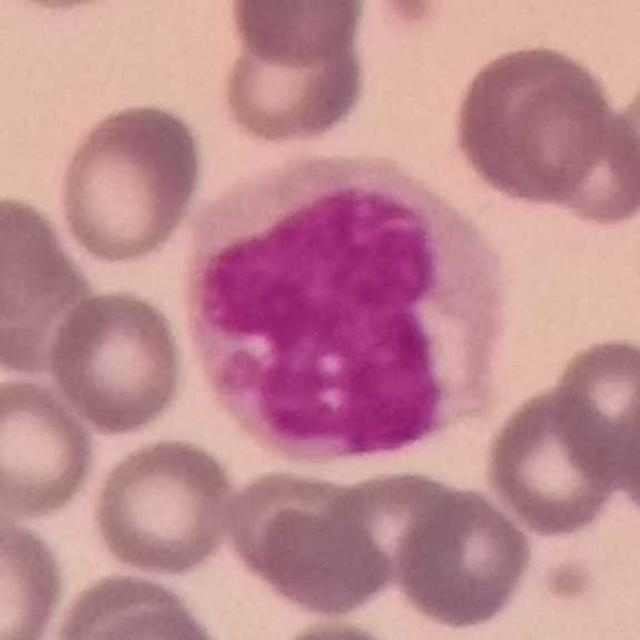Monocyte: (174, 148, 509, 470)
Platelets: (541, 554, 601, 604)
RBC: (446, 39, 620, 210), (296, 462, 479, 609), (52, 98, 207, 268), (86, 433, 245, 580), (216, 5, 373, 150), (44, 284, 190, 438), (482, 381, 623, 538), (391, 483, 536, 633), (0, 188, 91, 367), (546, 331, 640, 495), (0, 374, 100, 521), (52, 573, 227, 640), (225, 0, 373, 68), (0, 512, 69, 640), (612, 371, 640, 535), (263, 616, 419, 640), (0, 0, 143, 14)
